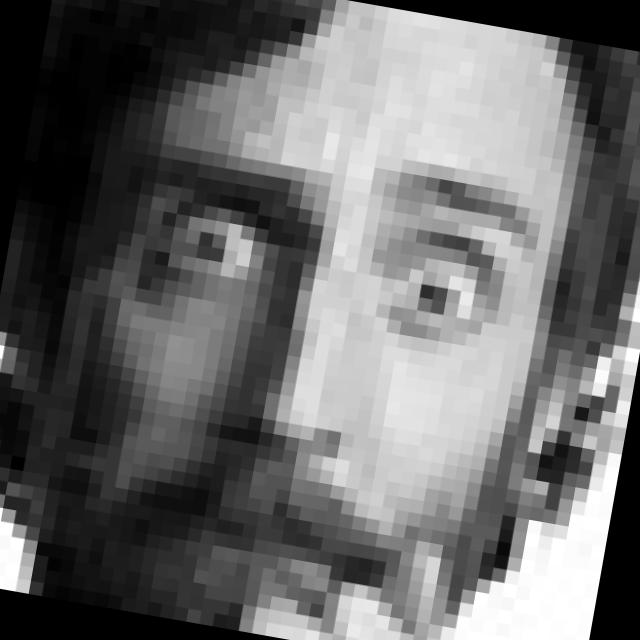fear: (57, 107, 549, 640)
